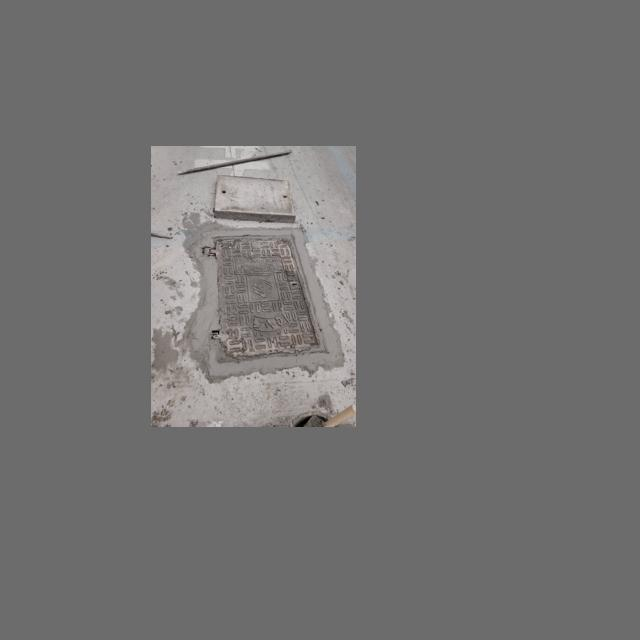good: (203, 234, 329, 360)
